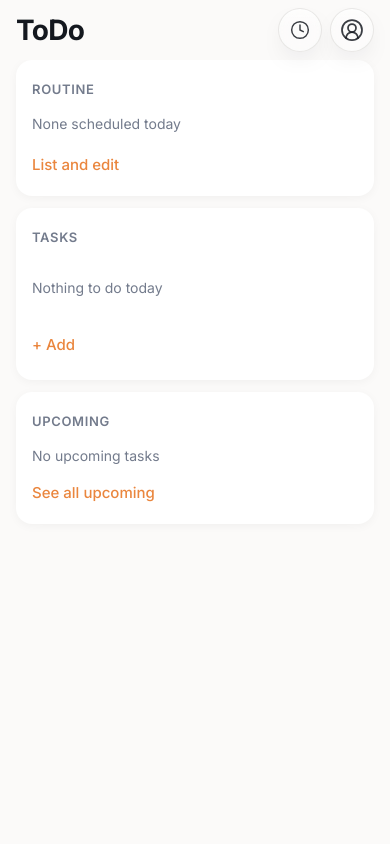
Test case: Phase 14-A ToDo › 14. Past history is opened from the clock button
Click the button with test id "todo-history".
click(300, 30)  # box [278,8,322,52]
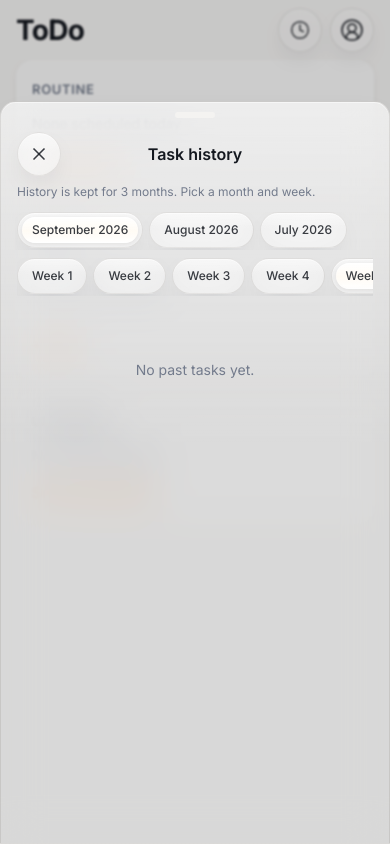
Expected: the heading "Task history" is shown, [148,144,242,164]
